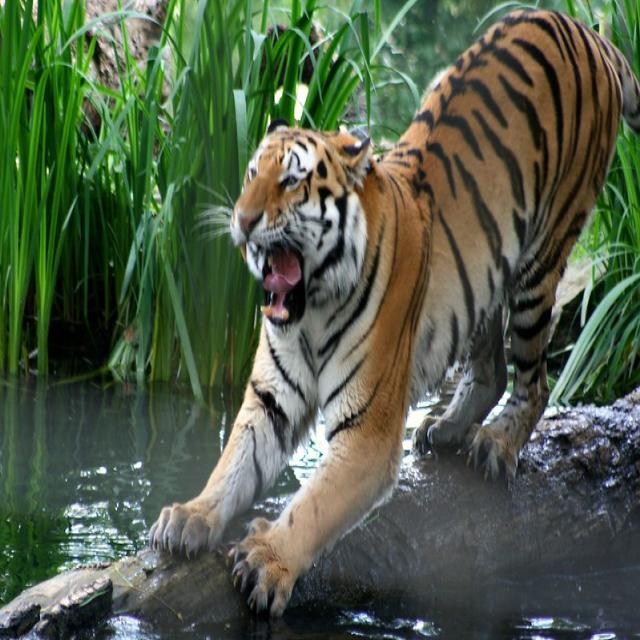Tiger: (144, 8, 638, 615)
